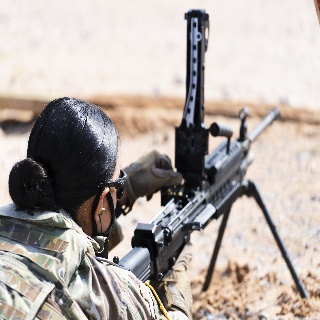rifle: (111, 8, 309, 301)
